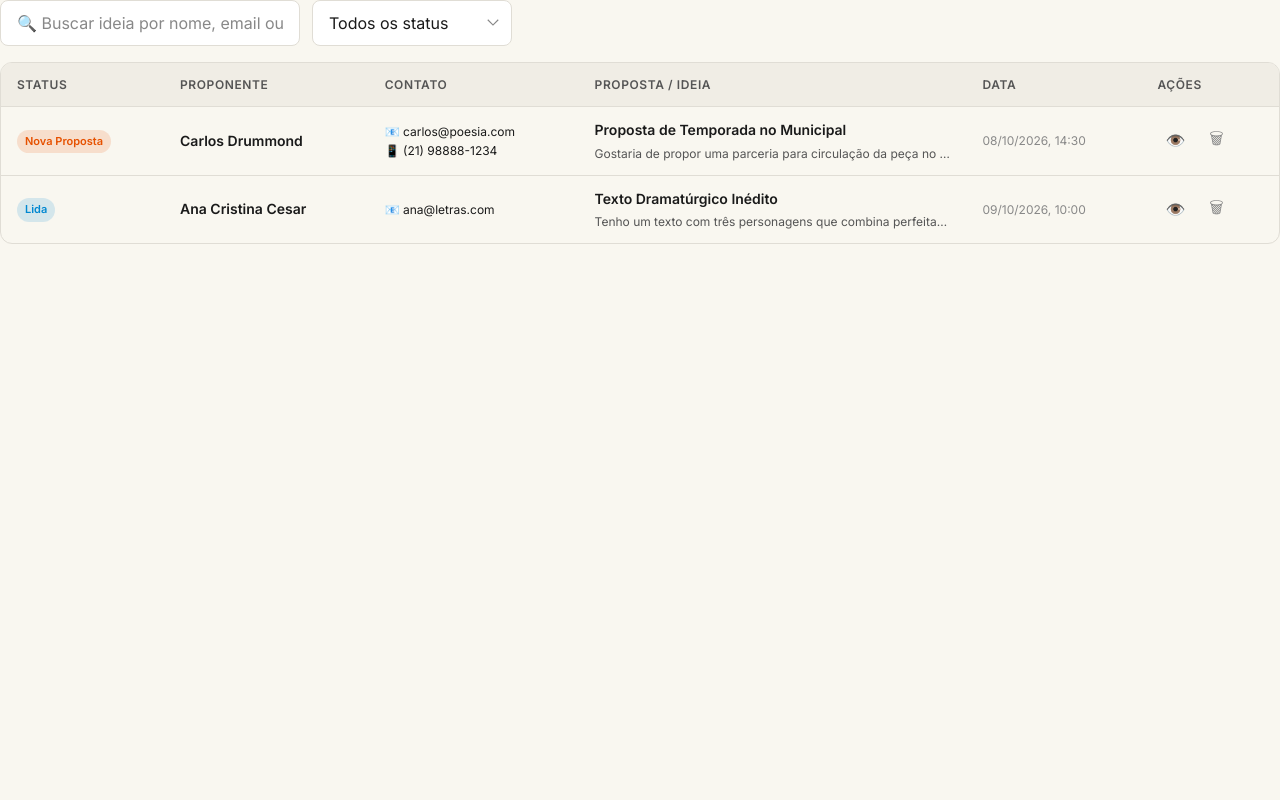
Test: AbaIdeias Component › deve abrir modal ao clicar no botão de visualização e marcar como lida se nova
Click the button "👁️" in the row of "Nova Proposta" at (1175, 141), box [1157,124,1193,158]
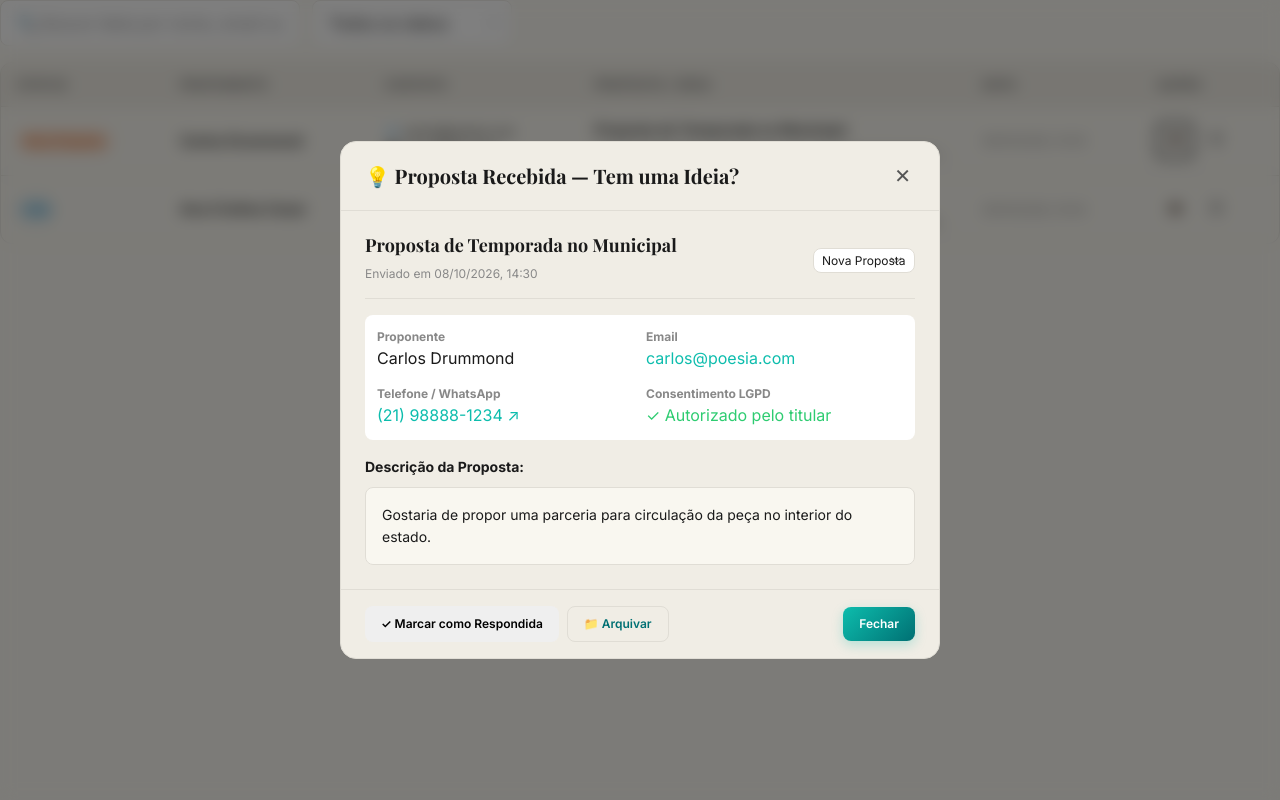
expect the heading "💡 Proposta Recebida — Tem uma Ideia?" is shown: met, box [365,164,739,188]
